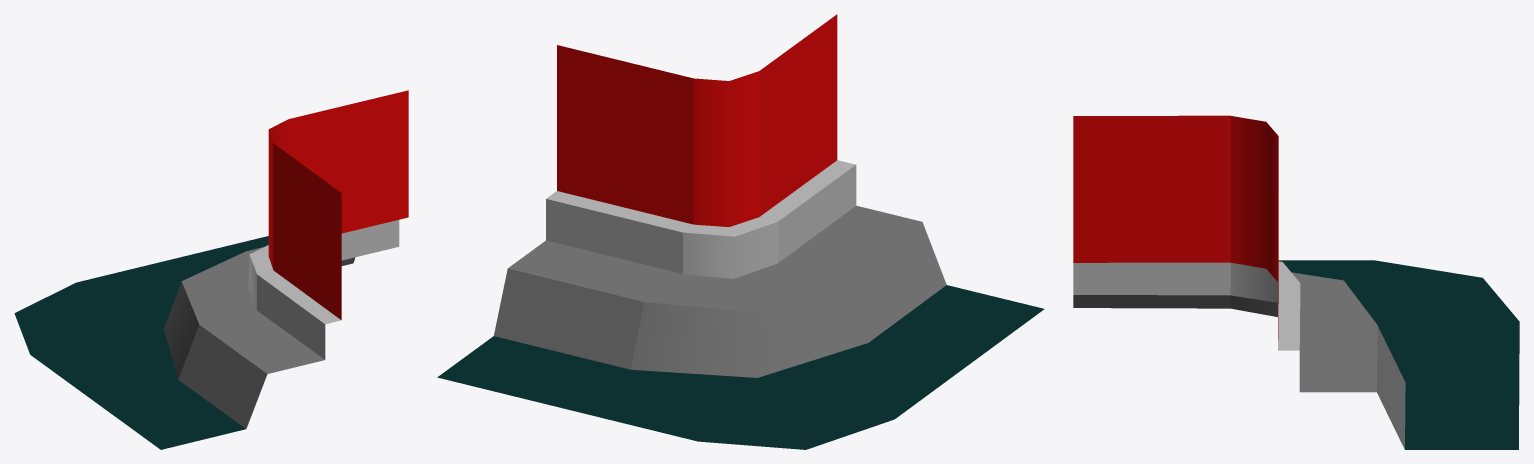
File: curva_interna_elevada.fbx
3 renders of one model, left to right at view 1: azimuth 30°, elevation 25°; view 2: azimuth 150°, elevation 25°; view 3: azimuth 270°, elevation 25°, orthographic. The views are drawn at different scales.
Parts seen in each view (by area): view 1: pieza_curva_interna_elevada; view 2: pieza_curva_interna_elevada; view 3: pieza_curva_interna_elevada.
Part boxes in pixels (x1,y1,x2,y2): pieza_curva_interna_elevada: [14, 90, 408, 449]; pieza_curva_interna_elevada: [437, 14, 1044, 449]; pieza_curva_interna_elevada: [1073, 115, 1519, 449].
Size of the model in its own units: 48.77 by 29.58 by 48.55.
